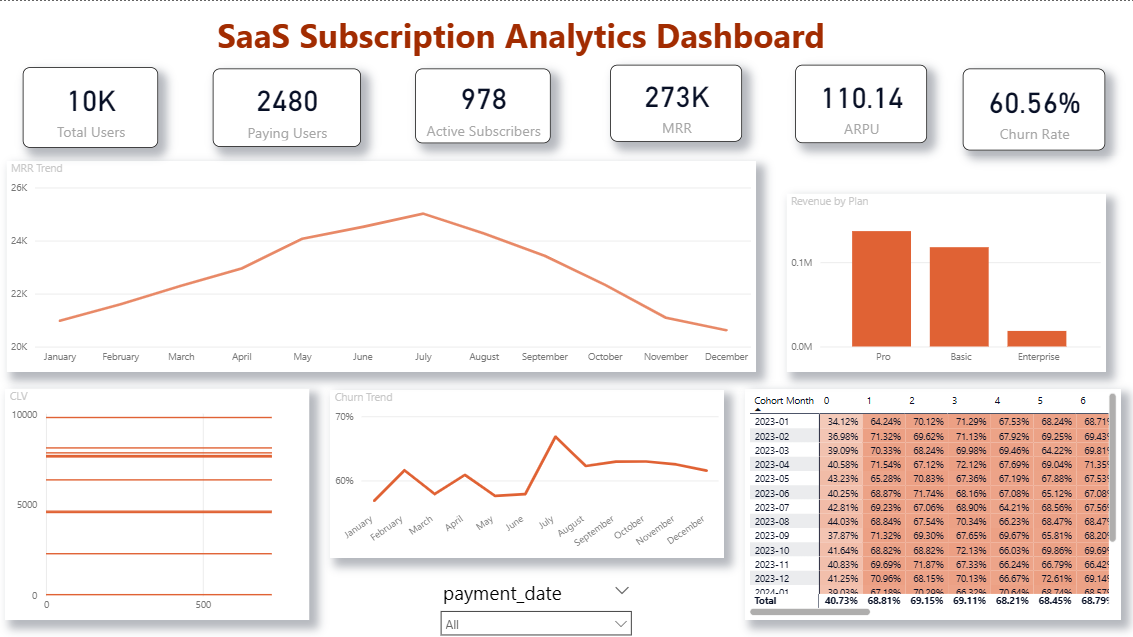

The page's visual inventory and layout, read from the dashboard file:
{"tool":"powerbi","page":{"name":"Page 1","canvas":[1280,720],"ordinal":0},"visuals":[{"type":"card","fields":{"Values":["Paying Users.Total Users"]},"box":[26,74,152,90],"z":0},{"type":"textbox","box":[240,8,728,68],"z":1000},{"type":"card","fields":{"Values":["Paying Users.Paying Users"]},"box":[240,76,166,88],"z":2000},{"type":"card","fields":{"Values":["Paying Users.Active Subscribers"]},"box":[468,76,152,84],"z":3000},{"type":"card","fields":{"Values":["Measures_table.MRR"]},"box":[686,72,148,86],"z":4000},{"type":"card","fields":{"Values":["Paying Users.ARPU"]},"box":[894,72,148,88],"z":5000},{"type":"card","fields":{"Values":["Measures_table.Churn Rate"]},"box":[1082,76,160,92],"z":6000},{"type":"lineChart","title":"MRR Trend","fields":{"Y":["Measures_table.MRR"],"Category":["payments.payment_date.Variation.Date Hierarchy.Month"]},"box":[8.3,180,841.7,236.7],"z":7000},{"type":"columnChart","title":"Revenue by Plan","fields":{"Category":["subscriptions.plan_type"],"Y":["Measures_table.MRR"]},"box":[884,216,358,200],"z":8000},{"type":"barChart","title":"CLV ","fields":{"Y":["Measures_table.CLV"],"Category":["subscriptions.user_id"]},"box":[6.7,435,341.7,260],"z":9000},{"type":"lineChart","title":"Churn Trend","fields":{"Category":["subscriptions.start_date.Variation.Date Hierarchy.Month"],"Y":["Measures_table.Churn Rate"]},"box":[371.5,436.2,441.3,189.1],"z":10000},{"type":"pivotTable","fields":{"Rows":["users.Cohort Month"],"Columns":["events.Month Since Signup"],"Values":["Measures_table.Retention Rate"]},"box":[838.3,435,421.7,260],"z":11000},{"type":"slicer","fields":{"Values":["payments.payment_date"]},"box":[485.6,644.1,235.1,76.7],"z":12000}]}

Visuals, with their boxes in screenshot pixels (x1, y1, x2, y2), scaled from the page's 1280x720 canvas onto the 1133x637 screenshot:
card - Paying Users.Total Users: rect(23, 65, 158, 145)
textbox: rect(212, 7, 857, 67)
card - Paying Users.Paying Users: rect(212, 67, 359, 145)
card - Paying Users.Active Subscribers: rect(414, 67, 549, 142)
card - Measures_table.MRR: rect(607, 64, 738, 140)
card - Paying Users.ARPU: rect(791, 64, 922, 142)
card - Measures_table.Churn Rate: rect(958, 67, 1099, 149)
"MRR Trend" lineChart: rect(7, 159, 752, 369)
"Revenue by Plan" columnChart: rect(782, 191, 1099, 368)
"CLV " barChart: rect(6, 385, 308, 615)
"Churn Trend" lineChart: rect(329, 386, 719, 553)
pivotTable - users.Cohort Month x events.Month Since Signup: rect(742, 385, 1115, 615)
slicer - payments.payment_date: rect(430, 570, 638, 636)
